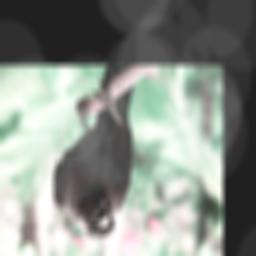Crow: (53, 66, 135, 240)
